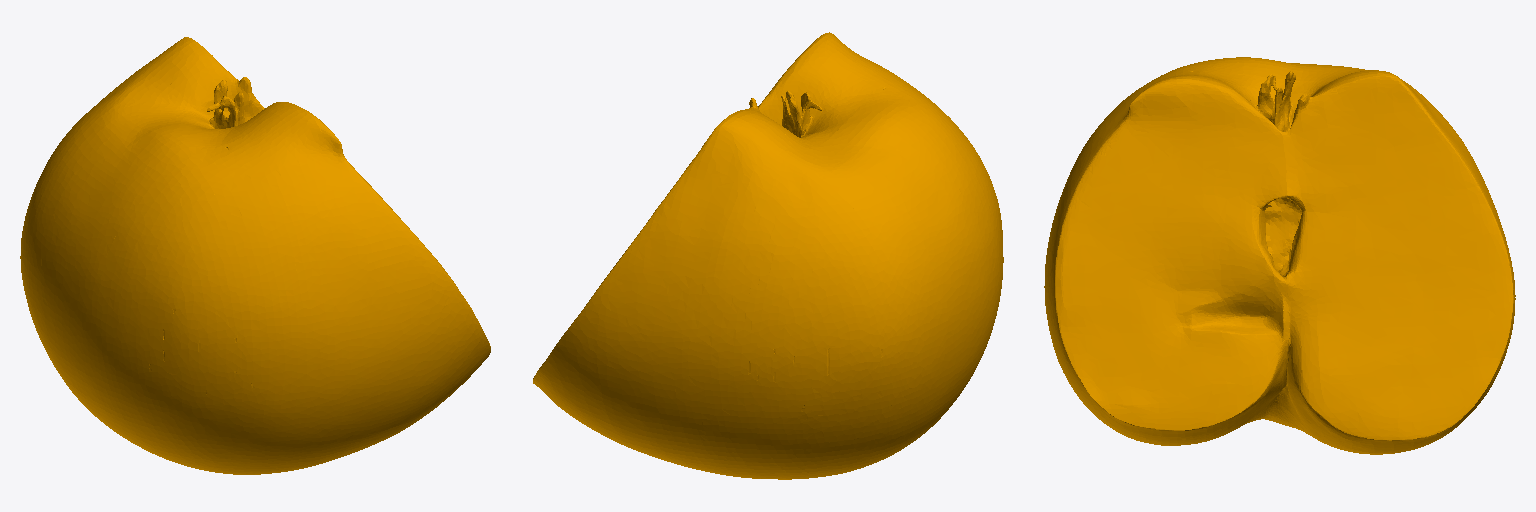
URDF robot description (sample):
<?xml version="1.0" ?>
<robot name="sample">
   <link name="sample">
      <visual>
         <origin xyz="0 0 0" rpy="1.5708 0.0 0.0"/>
         <geometry>
            <mesh filename="mesh/sample.obj" scale="1.0 1.0 1.0"/>
         </geometry>
      </visual>
      <collision>
         <origin xyz="0 0 0" rpy="1.5708 0.0 0.0"/>
         <geometry>
            <mesh filename="mesh/sample_collision.obj" scale="1.0 1.0 1.0"/>
         </geometry>
         <gazebo>
            <mu1>0.40</mu1>
            <mu2>0.30</mu2>
         </gazebo>
      </collision>
      <inertial>
         <mass value="0.2000"/>
         <origin xyz="0 0 0"/>
         <inertia ixx="1.0" ixy="0.0" ixz="0.0" iyy="1.0" iyz="0.0" izz="1.0"/>
      </inertial>
      <extra_info>
         <scale>0.106786</scale>
         <version>v0.1.7</version>
         <category>apple</category>
         <description>red apple cut in half, showing core and seeds</description>
         <min_height>0.08</min_height>
         <max_height>0.1</max_height>
         <real_height>0.09</real_height>
         <min_mass>0.15</min_mass>
         <max_mass>0.25</max_mass>
         <color>red</color>
         <rgba>[0.9, 0.2, 0.2, 1.0]</rgba>
         <generate_time>20260526145926</generate_time>
         <gs_model>mesh/sample_gs.ply</gs_model>
      </extra_info>
   </link>
   <custom_data>
      <quality>
         <MeshGeoChecker>YES</MeshGeoChecker>
         <ImageSegChecker>NO, missing whole apple, only half is segmented.</ImageSegChecker>
         <ImageAestheticChecker>4.759791016578674</ImageAestheticChecker>
         <overall>NO</overall>
      </quality>
   </custom_data>
</robot>

--- Facts derived from the render (not from the file) ---
The picture shows the robot from 3 angles, left to right: view 1: azimuth 30°, elevation 25°; view 2: azimuth 150°, elevation 25°; view 3: azimuth 270°, elevation 25°; orthographic projection.
Model sample with 1 links and 0 joints (none), rooted at sample, posed all joints at 0.
Visible links, largest first — view 1: sample; view 2: sample; view 3: sample.
Boxes of the visible links, x1,y1,x2,y2 form: sample: (20,37,490,474); sample: (533,32,1003,479); sample: (1044,57,1515,454).
Size in the robot's own frame: 0.0919 by 0.1068 by 0.09 metres.
Meshes: 1 distinct files referenced, 1 mesh visuals loaded (1 OBJ).
